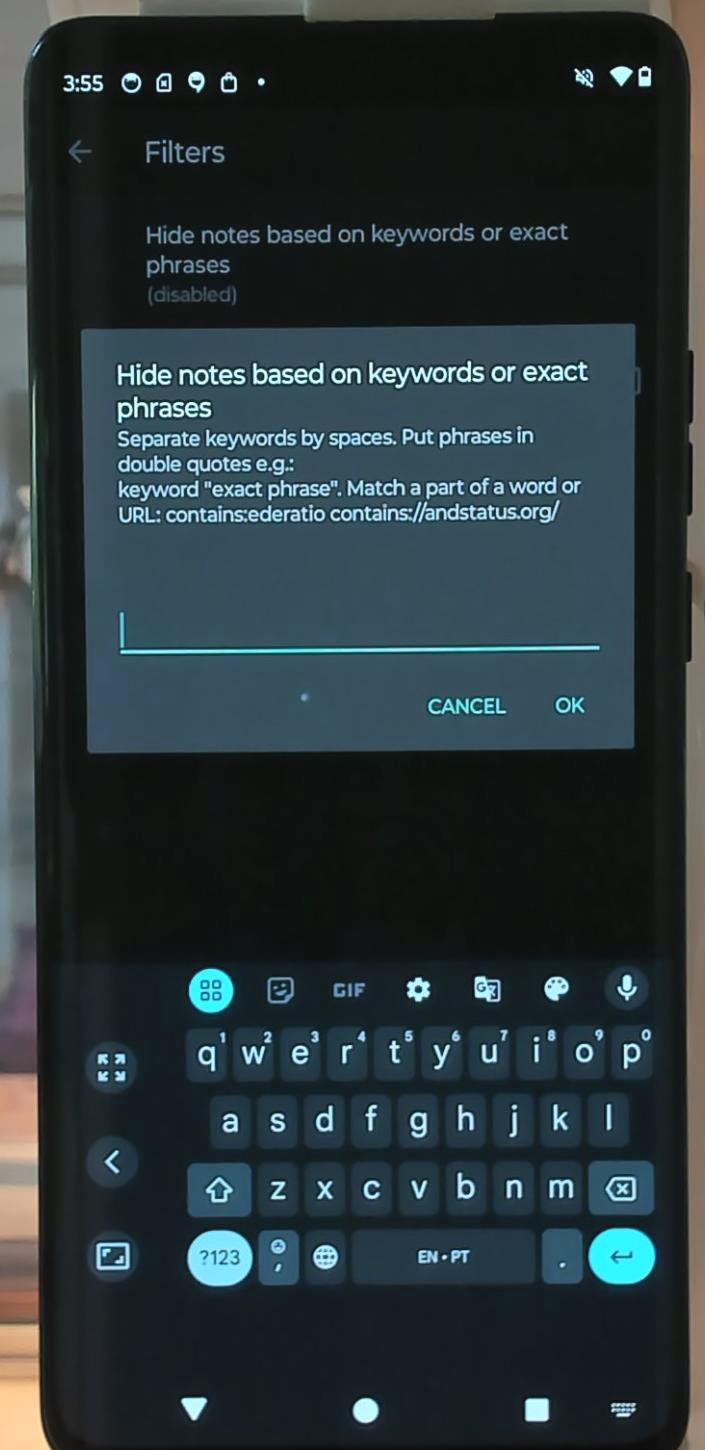CommunBotton: (78, 1216, 146, 1288), (81, 1125, 142, 1194), (80, 1034, 141, 1100), (598, 958, 656, 1015), (183, 963, 235, 1017), (175, 1384, 217, 1431), (398, 966, 439, 1010), (538, 965, 575, 1011), (328, 970, 371, 1009), (470, 966, 505, 1010), (517, 1390, 556, 1428), (346, 1391, 383, 1428), (265, 969, 298, 1009)
TextField: (108, 592, 609, 664)
TextKeyboard: (176, 1020, 667, 1296)
